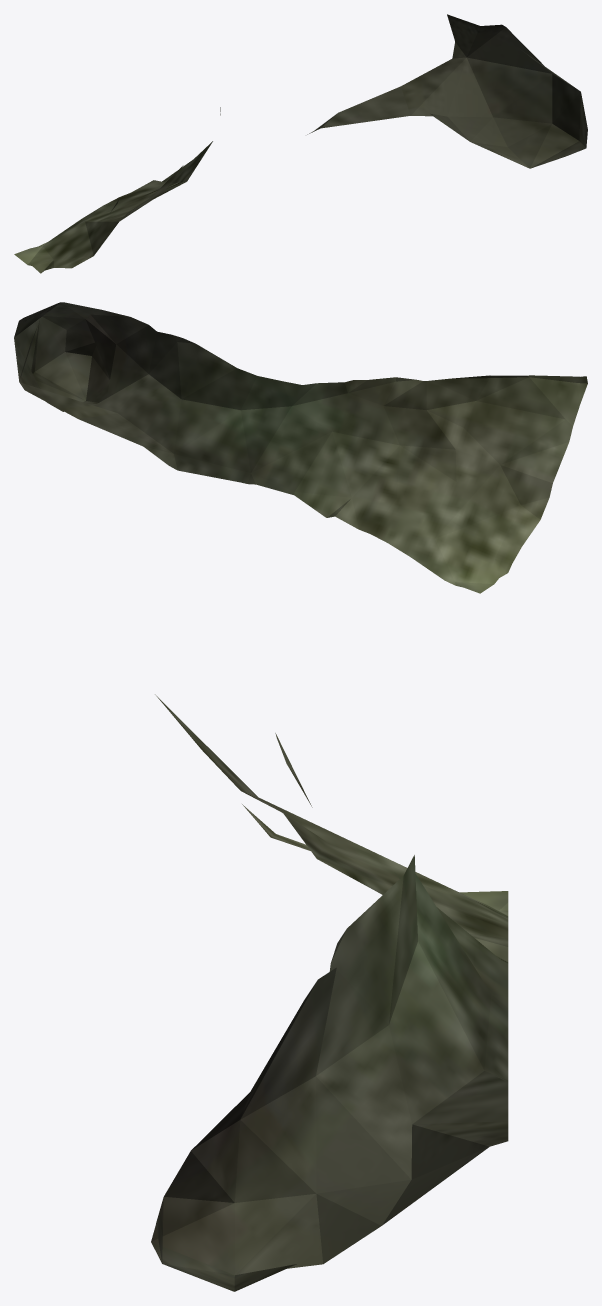
The picture shows the model from 3 angles, top to bottom: view 1: azimuth 30°, elevation 25°; view 2: azimuth 150°, elevation 25°; view 3: azimuth 270°, elevation 25°; orthographic projection. The views are drawn at different scales.
Bounding box in the file's own units: 3.94 × 1.03 × 1.42.
1 material, 1 textured.
